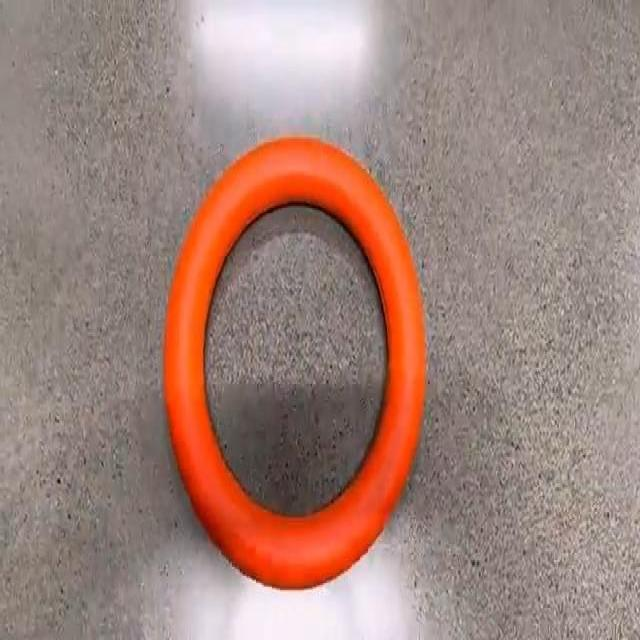note: (164, 138, 426, 588)
